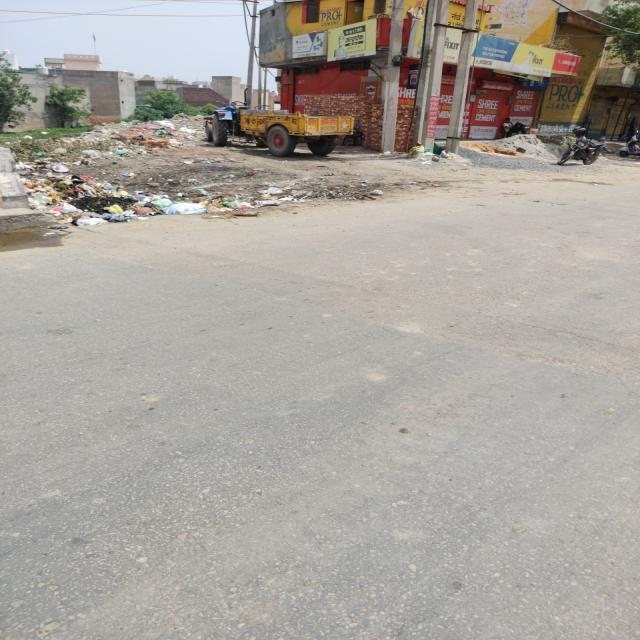tractor_back: (198, 90, 358, 162)
two_wheeler_front: (556, 123, 606, 172)
